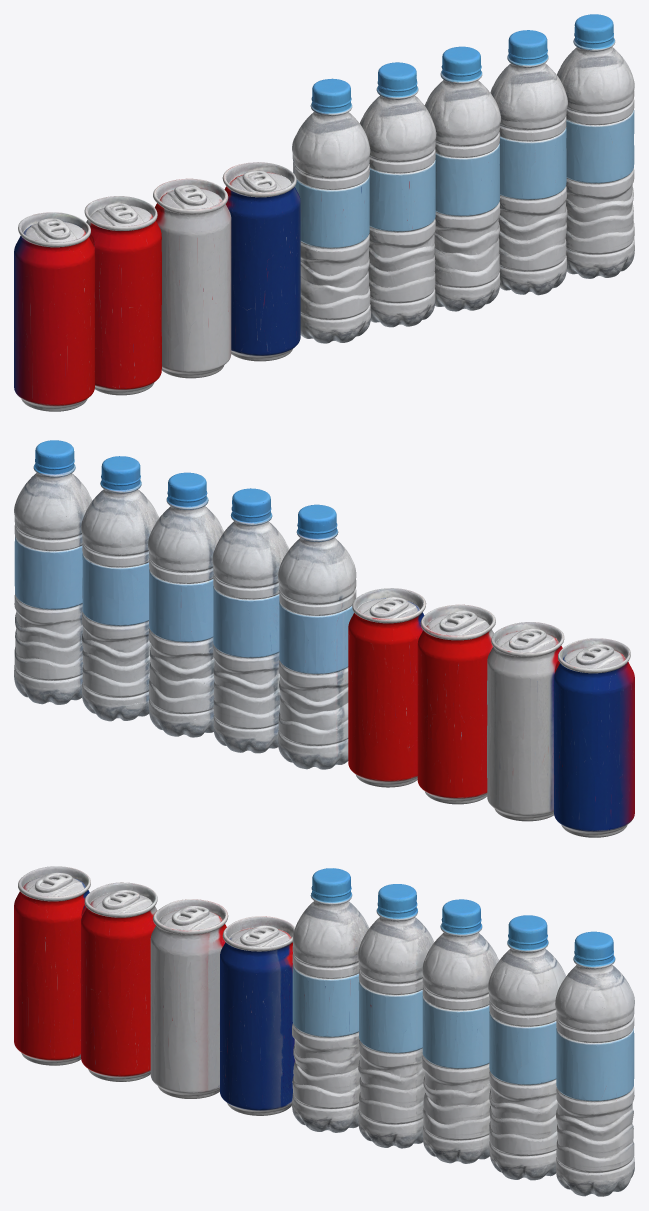
Rendered from original-drinks.glb.
The picture shows the model from 3 angles, top to bottom: view 1: azimuth 30°, elevation 25°; view 2: azimuth 150°, elevation 25°; view 3: azimuth 330°, elevation 25°; orthographic projection.
Visible parts, largest first — view 1: Mesh_0; view 2: Mesh_0; view 3: Mesh_0.
Part boxes in pixels (x1=…): Mesh_0: x1=14, y1=14, x2=634, y2=411; Mesh_0: x1=14, y1=440, x2=634, y2=837; Mesh_0: x1=14, y1=866, x2=634, y2=1196.
Bounding box in the file's own units: 1.9 × 0.7346 × 0.2189.
1 material, 1 textured.
